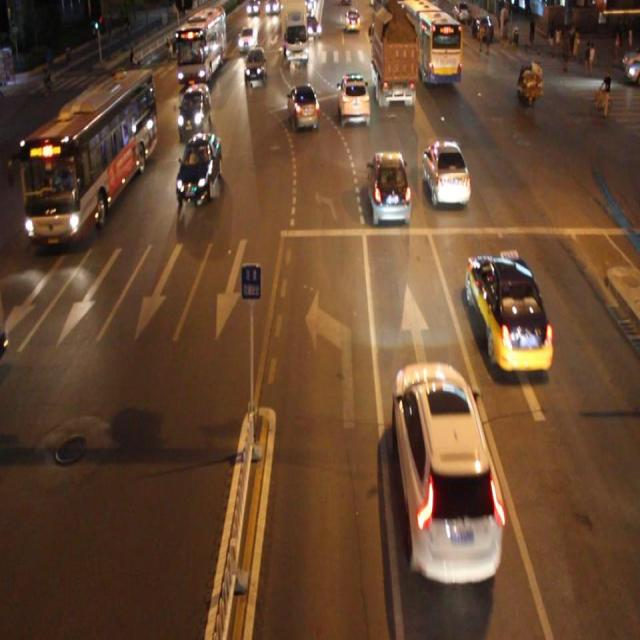bus: (372, 10, 416, 106)
car: (393, 361, 503, 580), (465, 254, 552, 370), (176, 132, 222, 205), (423, 139, 470, 207), (369, 149, 412, 223), (178, 83, 212, 137), (337, 75, 370, 128), (288, 84, 319, 132)
van: (22, 68, 152, 246)
